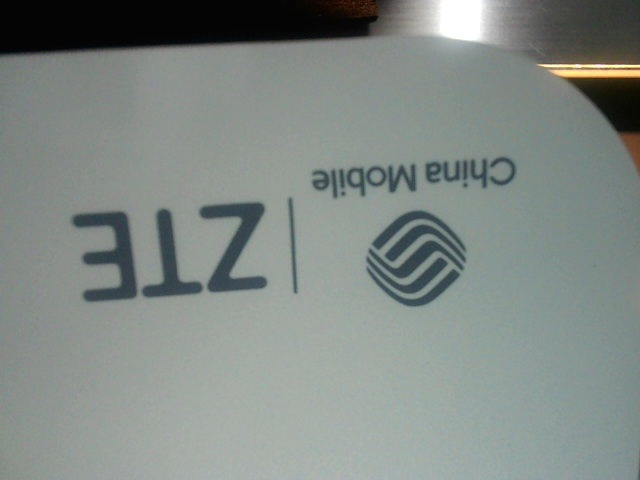AL_ZTEChinaMobile: (58, 146, 531, 317)
